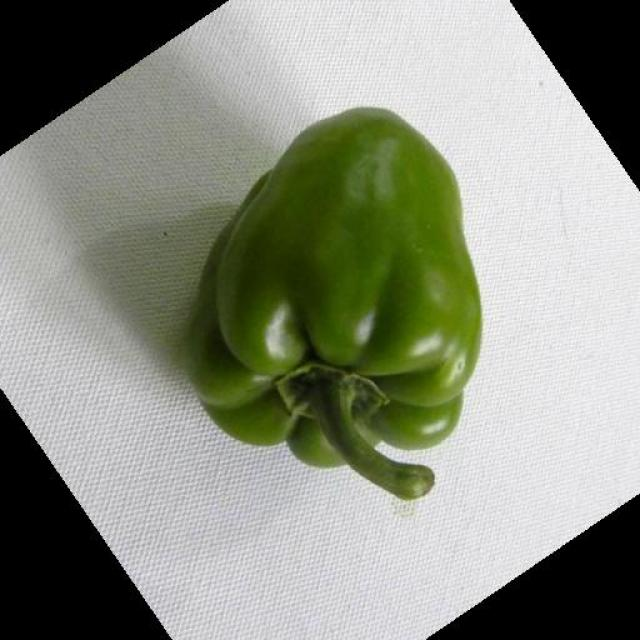Fresh_Capsicum: (176, 108, 485, 478)
